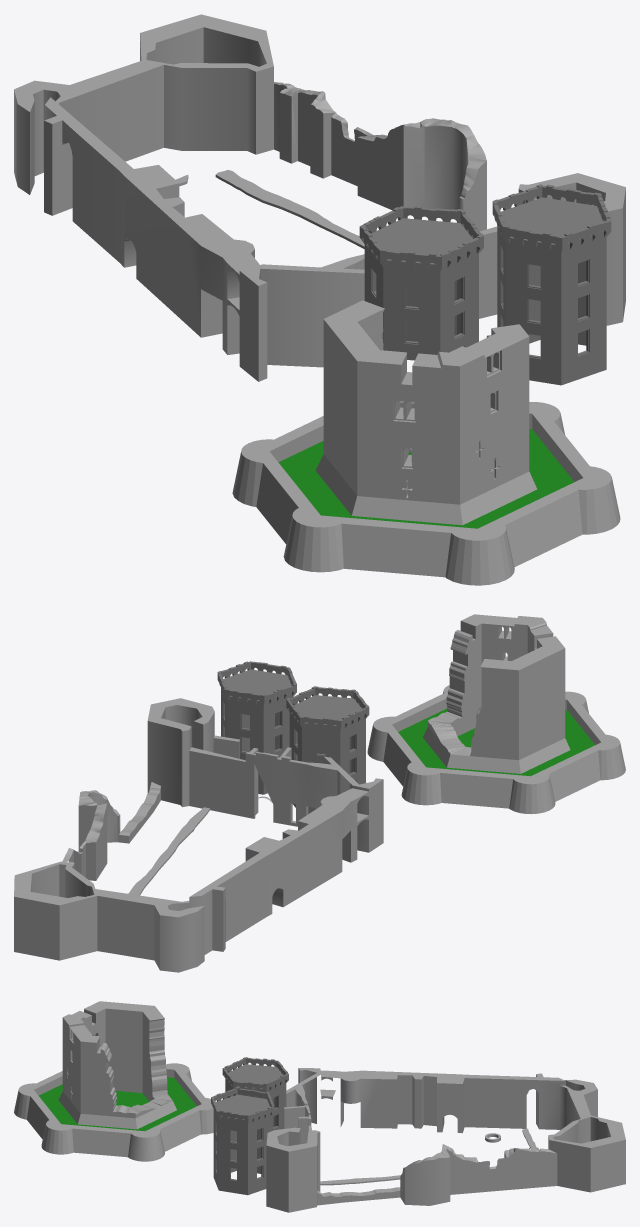
File: raglan-castle-v1.gltf
3 views of the same model, one above another, from view 1: azimuth 30°, elevation 25°; view 2: azimuth 150°, elevation 25°; view 3: azimuth 270°, elevation 25° (orthographic). The views are drawn at different scales.
Visible parts, largest first — view 1: Main Courtyard - Assembly, Great Tower - Main#1, Great Tower - Base, Main Courtyard - Tower.stl (×2), Main Courtyard - Tower Crown.stl (×2); view 2: Main Courtyard - Assembly, Great Tower - Main#1, Great Tower - Base, Main Courtyard - Tower.stl (×2), Main Courtyard - Tower Crown.stl (×2); view 3: Main Courtyard - Assembly, Great Tower - Main#1, Great Tower - Base, Main Courtyard - Tower.stl (×2), Main Courtyard - Tower Crown.stl (×2).
Part boxes in pixels (left/top/right/bottom): Main Courtyard - Assembly: left=14, top=14, right=625, bottom=381; Great Tower - Main#1: left=315, top=300, right=537, bottom=525; Great Tower - Base: left=232, top=401, right=620, bottom=585; Main Courtyard - Tower.stl (×2): left=364, top=197, right=606, bottom=385; Main Courtyard - Tower Crown.stl (×2): left=359, top=184, right=611, bottom=271; Main Courtyard - Assembly: left=14, top=698, right=383, bottom=972; Great Tower - Main#1: left=423, top=614, right=570, bottom=773; Great Tower - Base: left=367, top=685, right=625, bottom=814; Main Courtyard - Tower.stl (×2): left=221, top=669, right=365, bottom=813; Main Courtyard - Tower Crown.stl (×2): left=217, top=661, right=369, bottom=730; Main Courtyard - Assembly: left=266, top=1068, right=625, bottom=1212; Great Tower - Main#1: left=58, top=1001, right=176, bottom=1129; Great Tower - Base: left=14, top=1063, right=215, bottom=1161; Main Courtyard - Tower.stl (×2): left=213, top=1064, right=286, bottom=1195; Main Courtyard - Tower Crown.stl (×2): left=211, top=1057, right=288, bottom=1123.
Bounding box in the file's own units: 0.2746 × 0.0911 × 0.5203.
